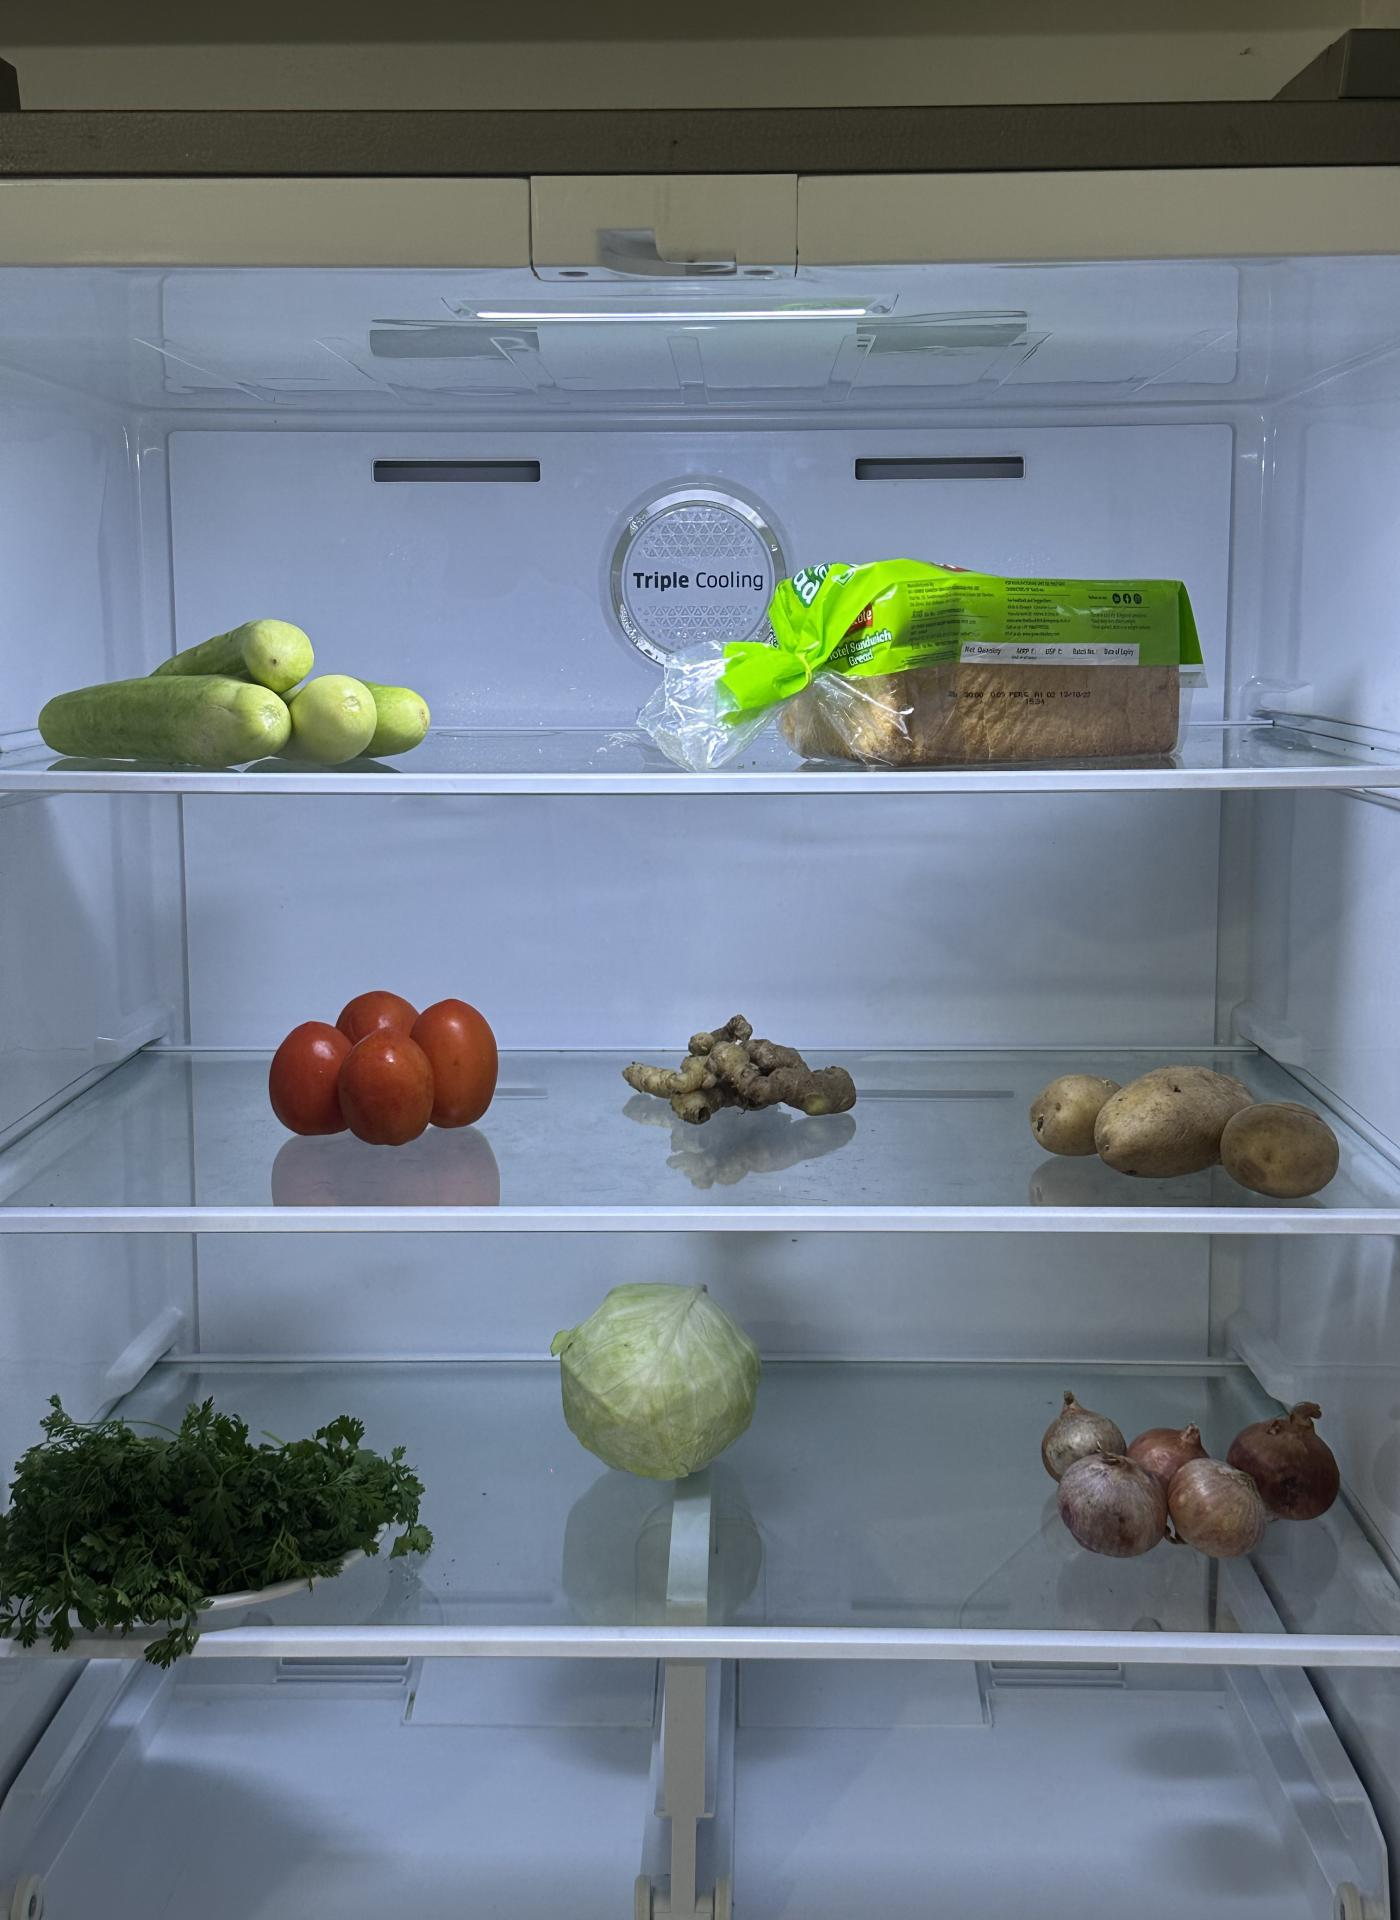bread: (778, 552, 1209, 769)
cabbage: (559, 1278, 768, 1479)
coriander: (0, 1406, 422, 1625)
cucumber: (27, 623, 423, 792)
ginger: (625, 1011, 859, 1128)
onion: (1044, 1382, 1348, 1562)
potato: (1027, 1052, 1343, 1199)
tomato: (262, 982, 501, 1149)
